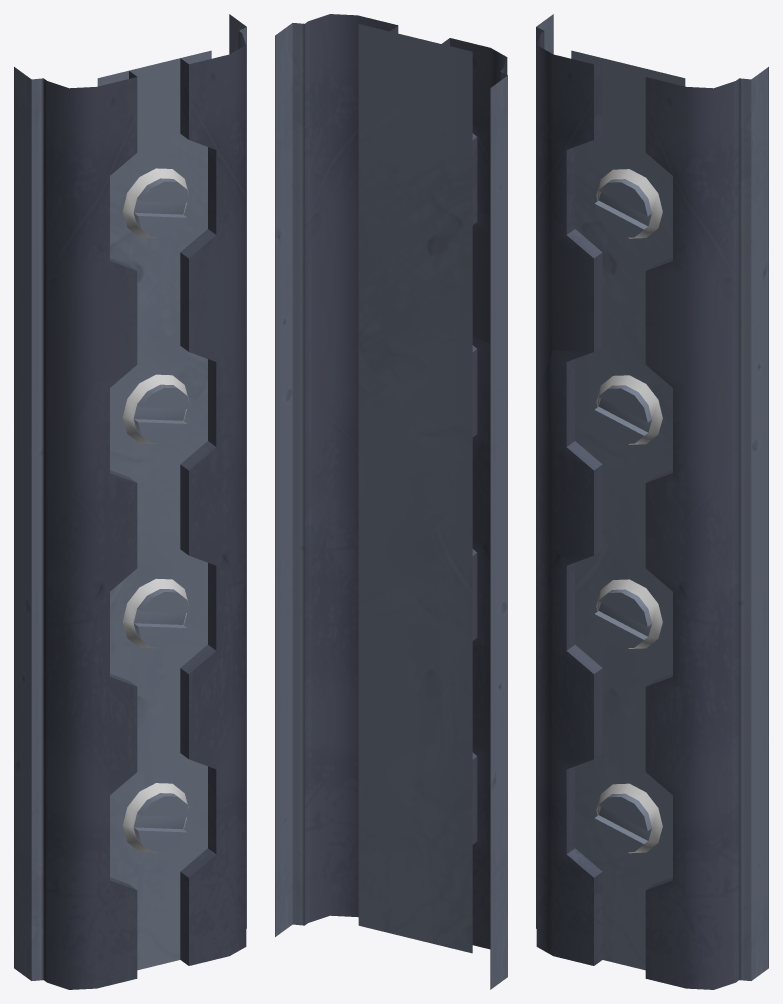
Rendered from obj_spaceship_wall05.fbx.
3 views of the same model, side by side, from view 1: azimuth 30°, elevation 25°; view 2: azimuth 150°, elevation 25°; view 3: azimuth 330°, elevation 25° (orthographic).
Parts seen in each view (by area): view 1: polySurface203; view 2: polySurface203; view 3: polySurface203.
Boxes of the visible parts, x1,y1,x2,y2 form: polySurface203: [14, 14, 246, 989]; polySurface203: [275, 14, 507, 989]; polySurface203: [536, 14, 768, 989].
Size of the model in its own units: 3 by 12 by 1.
